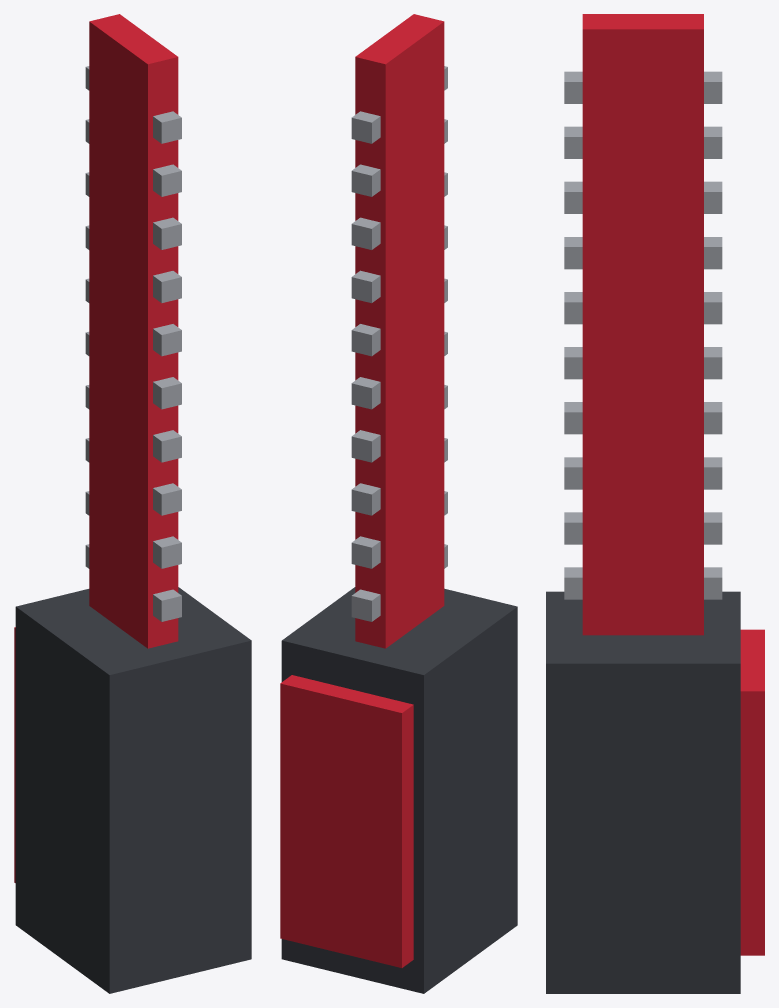
The model's file is adamantite_chainsaw.glb.
The picture shows the model from 3 angles, left to right: view 1: azimuth 30°, elevation 25°; view 2: azimuth 150°, elevation 25°; view 3: azimuth 270°, elevation 25°; orthographic projection. The views are drawn at different scales.
Parts seen in each view (by area): view 1: adamantite_chainsaw_v0; view 2: adamantite_chainsaw_v0; view 3: adamantite_chainsaw_v0.
Boxes of the visible parts, <box> form: adamantite_chainsaw_v0: <box>14,14,251,993</box>; adamantite_chainsaw_v0: <box>280,14,517,993</box>; adamantite_chainsaw_v0: <box>546,14,764,993</box>.
Size of the model in its own units: 0.14 by 0.85 by 0.18.
